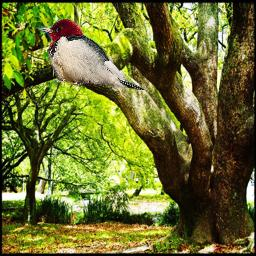Woodpecker: (35, 19, 147, 90)
